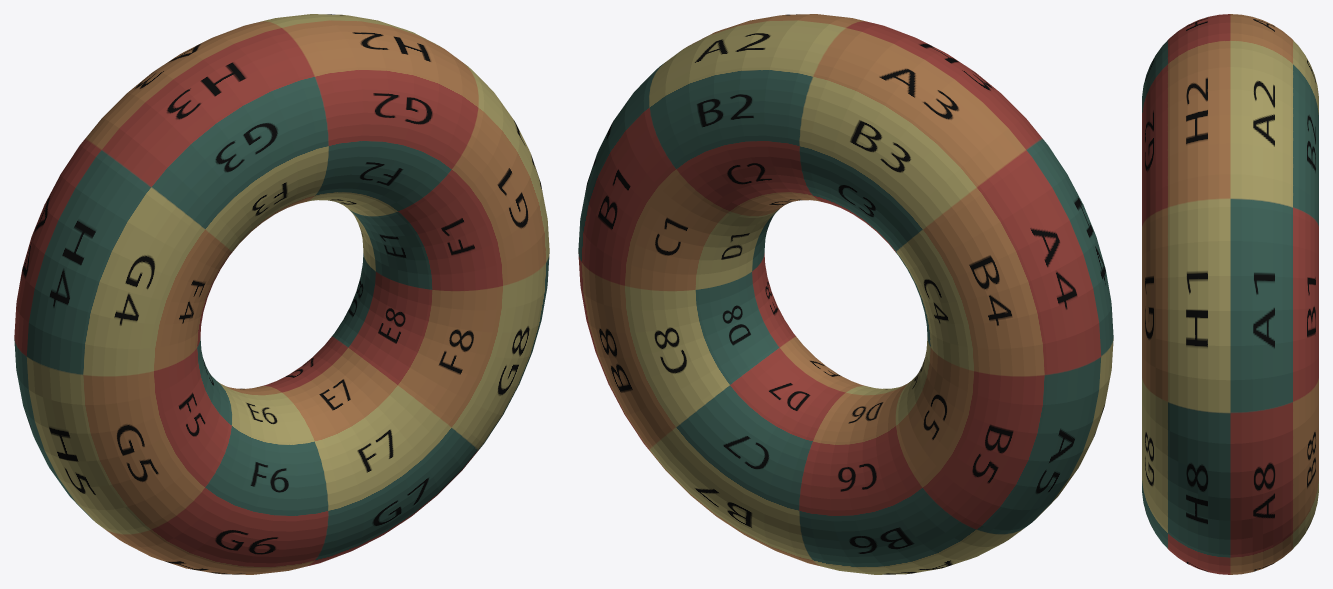
File: texture_torus_R14_r26.glb
The picture shows the model from 3 angles, left to right: view 1: azimuth 30°, elevation 25°; view 2: azimuth 150°, elevation 25°; view 3: azimuth 270°, elevation 25°; orthographic projection. The views are drawn at different scales.
Visible parts, largest first — view 1: world; view 2: world; view 3: world.
Boxes of the visible parts, x1=… form: world: x1=14, y1=14, x2=549, y2=574; world: x1=578, y1=14, x2=1113, y2=574; world: x1=1142, y1=14, x2=1318, y2=574.
Size of the model in its own units: 28.27 by 28.21 by 8.92.
Materials: 1 (1 with a texture image).
